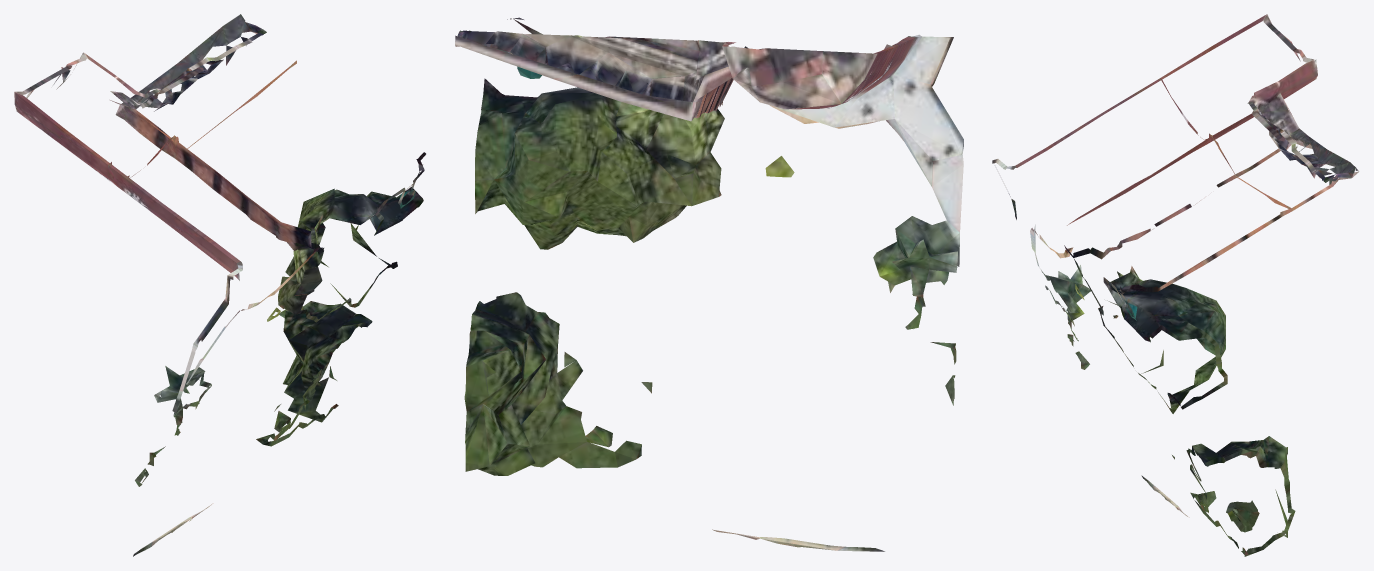
File: AJVsH2wAyZVHfOlA0jtBdSb7Sip8LtS4LWwXH7lwsFQmyuc2oEmetCdD2exmxRDG2M8LnXfdvUvbL_6o28dBBo-W9t9JHVrAPU9rraFYMNXb6tM5UEyWYr9U6kg4gYEA2ZloKAt9SyxqJ9chiheghYI-FLnE.glb
The picture shows the model from 3 angles, left to right: view 1: azimuth 30°, elevation 25°; view 2: azimuth 150°, elevation 25°; view 3: azimuth 270°, elevation 25°; orthographic projection. The views are drawn at different scales.
Size of the model in its own units: 40.02 by 47.22 by 35.97.
Materials: 1 (1 with a texture image).
